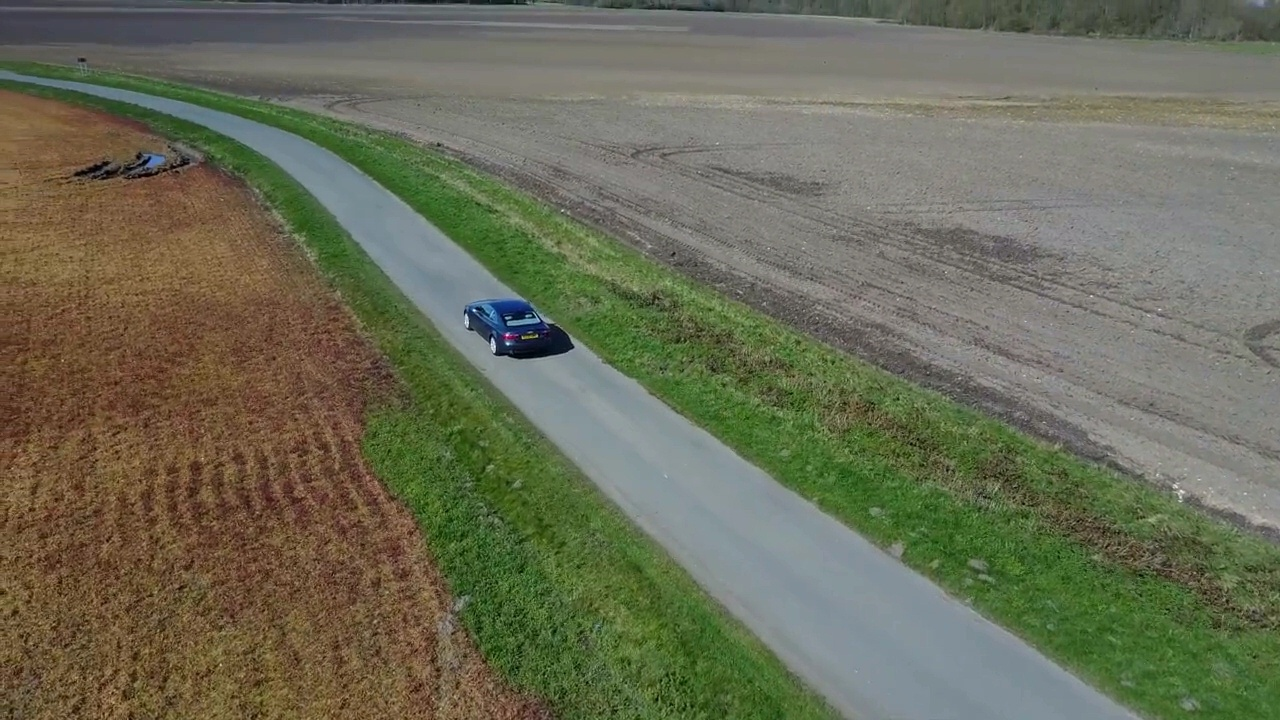araba: (459, 293, 560, 362)
